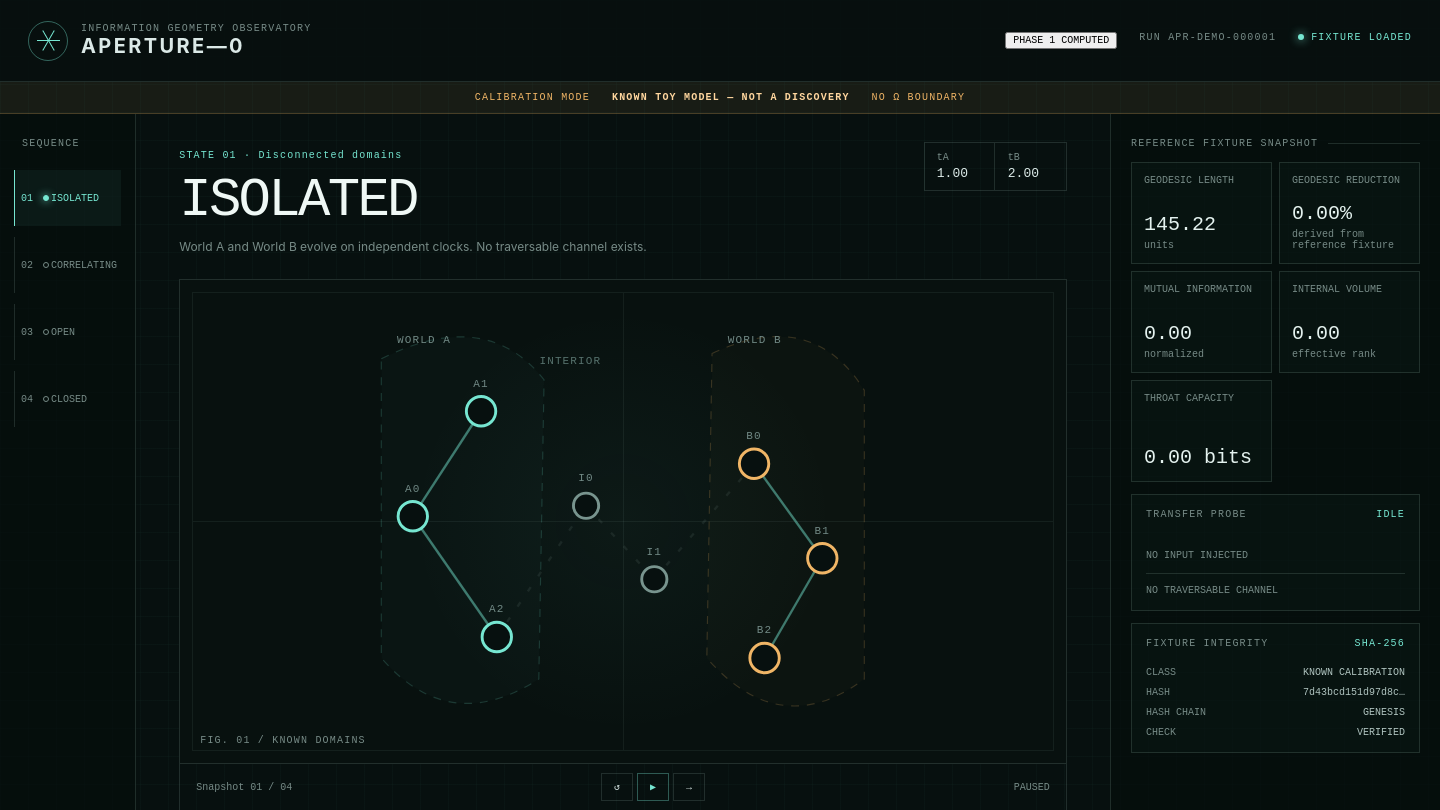
Scenario: Aperture-0 observatory › keeps the payload absent while correlating
The image size is (1440, 810).
Click the button with aria-label "Open CORRELATING snapshot": click(68, 265) [14,237,121,293]
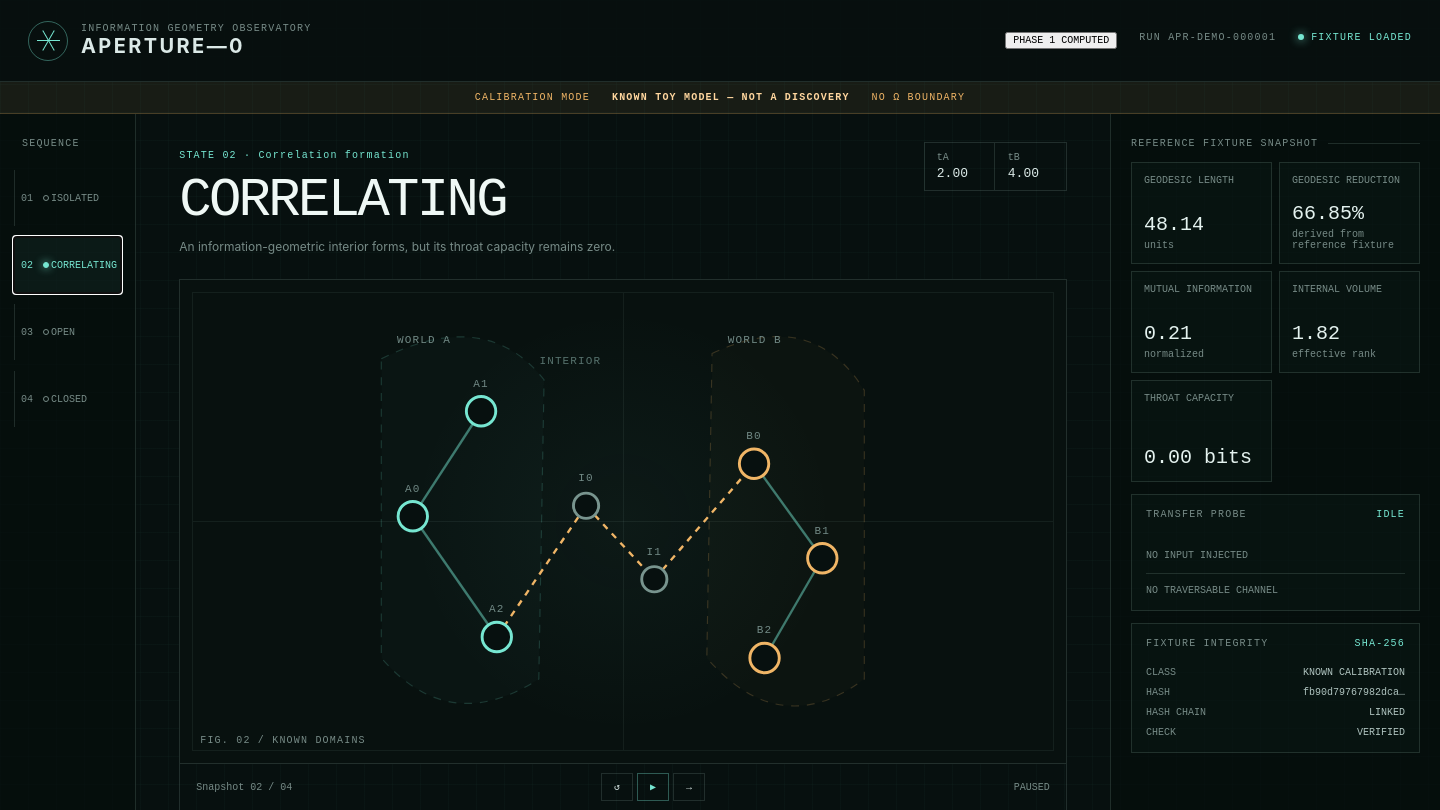
Expected: the text "NO INPUT INJECTED" is shown, [1146,550,1248,561]
Expected: the heading "CORRELATING" is shown, [179,170,506,231]
